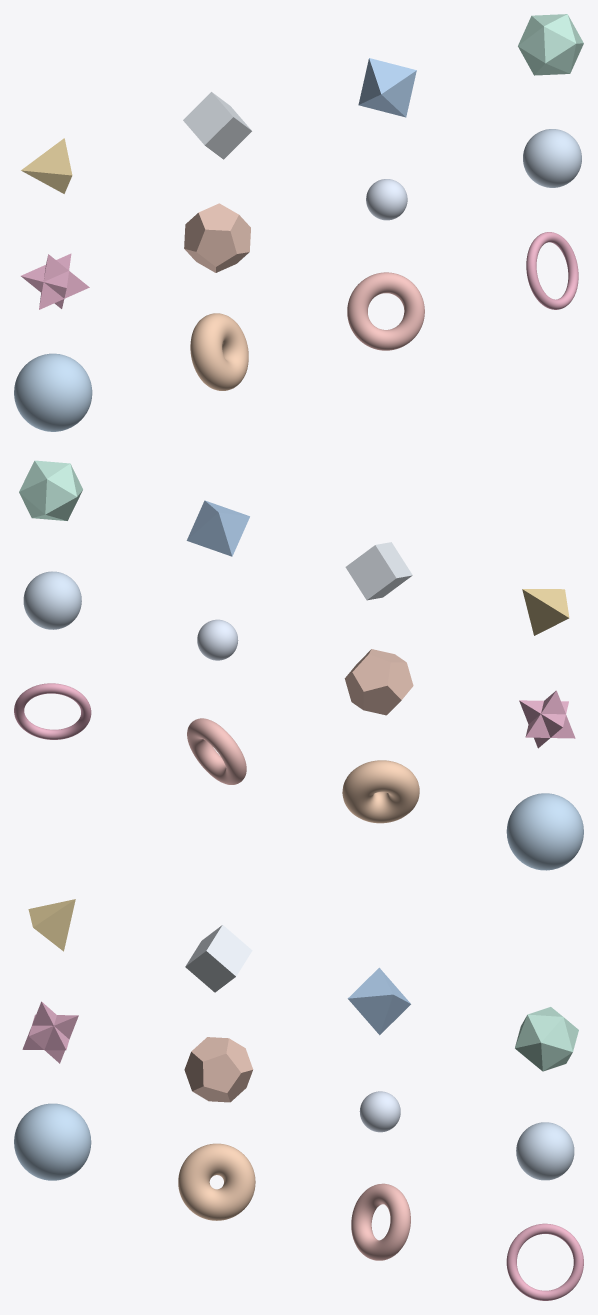
File: platonic-solids.glb
The picture shows the model from 3 angles, top to bottom: view 1: azimuth 30°, elevation 25°; view 2: azimuth 150°, elevation 25°; view 3: azimuth 330°, elevation 25°; orthographic projection.
Parts seen in each view (by area): view 1: SphereLarge, TorusCenterMedium, TorusCenterSmall, Dodecahedron, Icosahedron, SphereMedium, Cube, Octahedron, StarTetrahedron, TorusCenterLarge, Tetrahedron, SphereSmall; view 2: SphereLarge, TorusCenterSmall, Dodecahedron, Icosahedron, SphereMedium, TorusCenterMedium, Cube, Octahedron, TorusCenterLarge, StarTetrahedron, Tetrahedron, SphereSmall; view 3: SphereLarge, TorusCenterSmall, Dodecahedron, TorusCenterMedium, Icosahedron, SphereMedium, Cube, TorusCenterLarge, Octahedron, StarTetrahedron, Tetrahedron, SphereSmall.
Boxes of the visible parts, box(x1,y1,x2,y2) form: SphereLarge: box(14, 353, 92, 431); TorusCenterMedium: box(347, 272, 424, 350); TorusCenterSmall: box(190, 313, 248, 390); Dodecahedron: box(184, 203, 250, 272); Icosahedron: box(518, 14, 583, 75); SphereMedium: box(523, 129, 581, 187); Cube: box(183, 92, 251, 159); Octahedron: box(358, 58, 416, 117); StarTetrahedron: box(21, 253, 89, 309); TorusCenterLarge: box(526, 232, 578, 309); Tetrahedron: box(21, 138, 72, 193); SphereSmall: box(366, 179, 407, 220); SphereLarge: box(506, 793, 583, 870); TorusCenterSmall: box(342, 760, 419, 823); Dodecahedron: box(344, 649, 413, 715); Icosahedron: box(19, 460, 82, 520); SphereMedium: box(23, 571, 81, 629); TorusCenterMedium: box(187, 718, 246, 784); Cube: box(345, 542, 412, 600); Octahedron: box(186, 500, 249, 556); TorusCenterLarge: box(14, 683, 91, 739); StarTetrahedron: box(519, 690, 575, 748); Tetrahedron: box(522, 589, 569, 635); SphereSmall: box(197, 619, 238, 660); SphereLarge: box(14, 1103, 91, 1180); TorusCenterSmall: box(178, 1143, 255, 1220); Dodecahedron: box(184, 1037, 253, 1102); TorusCenterMedium: box(351, 1183, 410, 1260); Icosahedron: box(515, 1007, 578, 1071); SphereMedium: box(516, 1122, 574, 1180); Cube: box(185, 925, 252, 992); TorusCenterLarge: box(506, 1223, 583, 1300); Octahedron: box(347, 967, 410, 1035); StarTetrahedron: box(22, 1001, 78, 1063); Tetrahedron: box(28, 899, 75, 951); SphereSmall: box(359, 1091, 400, 1132).
Bounding box in the file's own units: 16.28 × 8.02 × 1.96.
